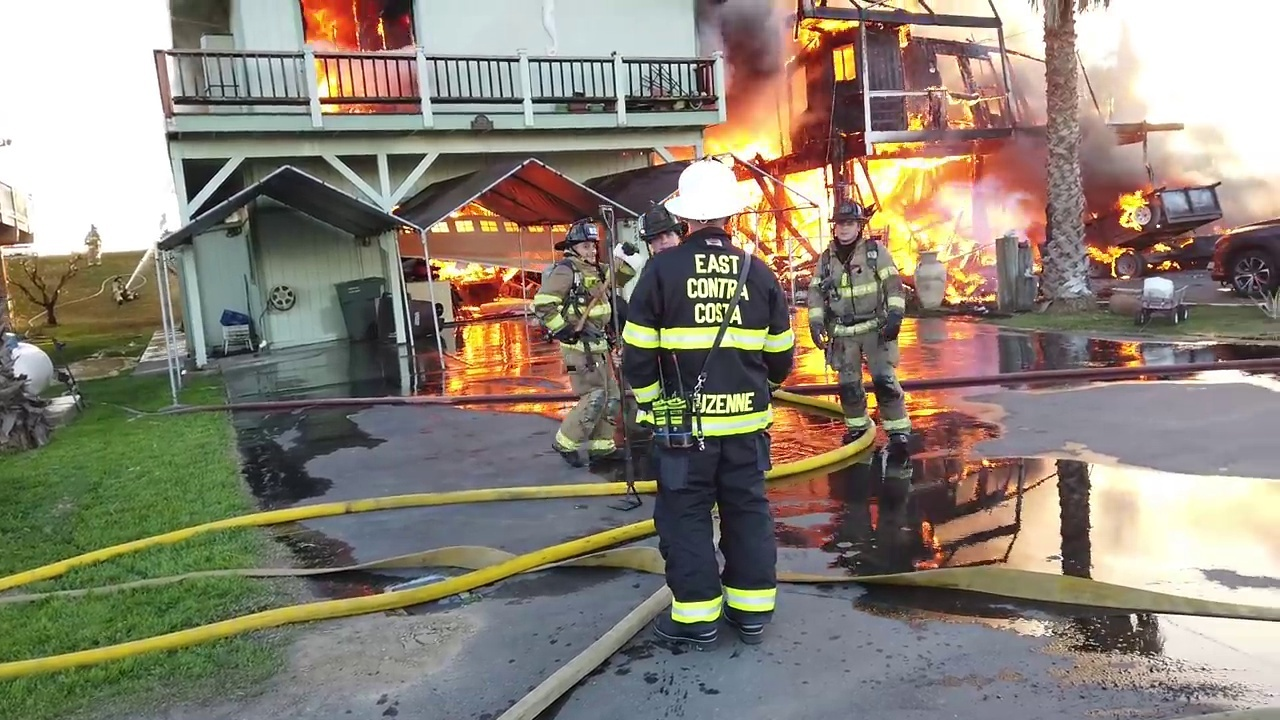fire: (700, 113, 983, 273), (299, 1, 381, 103), (435, 260, 522, 302), (432, 217, 566, 238), (907, 104, 928, 131)
smoke: (971, 92, 1142, 214), (692, 1, 816, 92), (358, 46, 416, 99)
